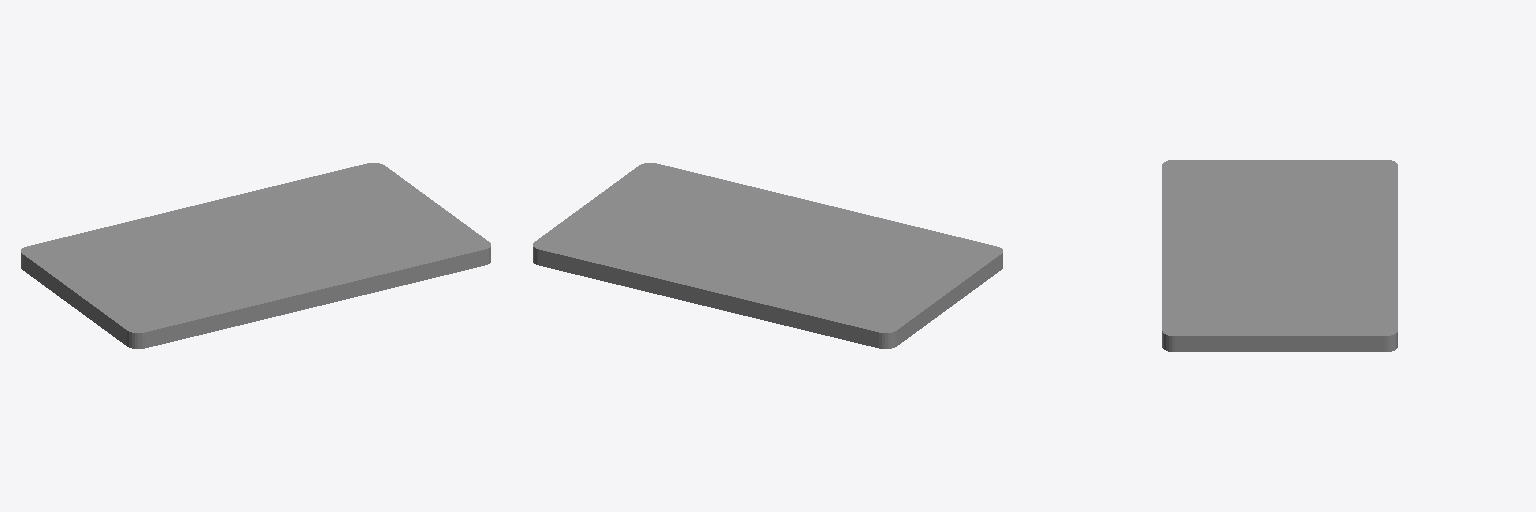
Rendered from Tablet.obj.
The picture shows the model from 3 angles: view 1: azimuth 30°, elevation 25°; view 2: azimuth 150°, elevation 25°; view 3: azimuth 270°, elevation 25°; orthographic projection.
Parts seen in each view (by area): view 1: Body1; view 2: Body1; view 3: Body1.
Part boxes in pixels (x1,y1,x2,y2): Body1: (21,163,490,348); Body1: (533,163,1002,348); Body1: (1162,160,1397,351).
Bounding box in the file's own units: 16 × 0.68 × 9.